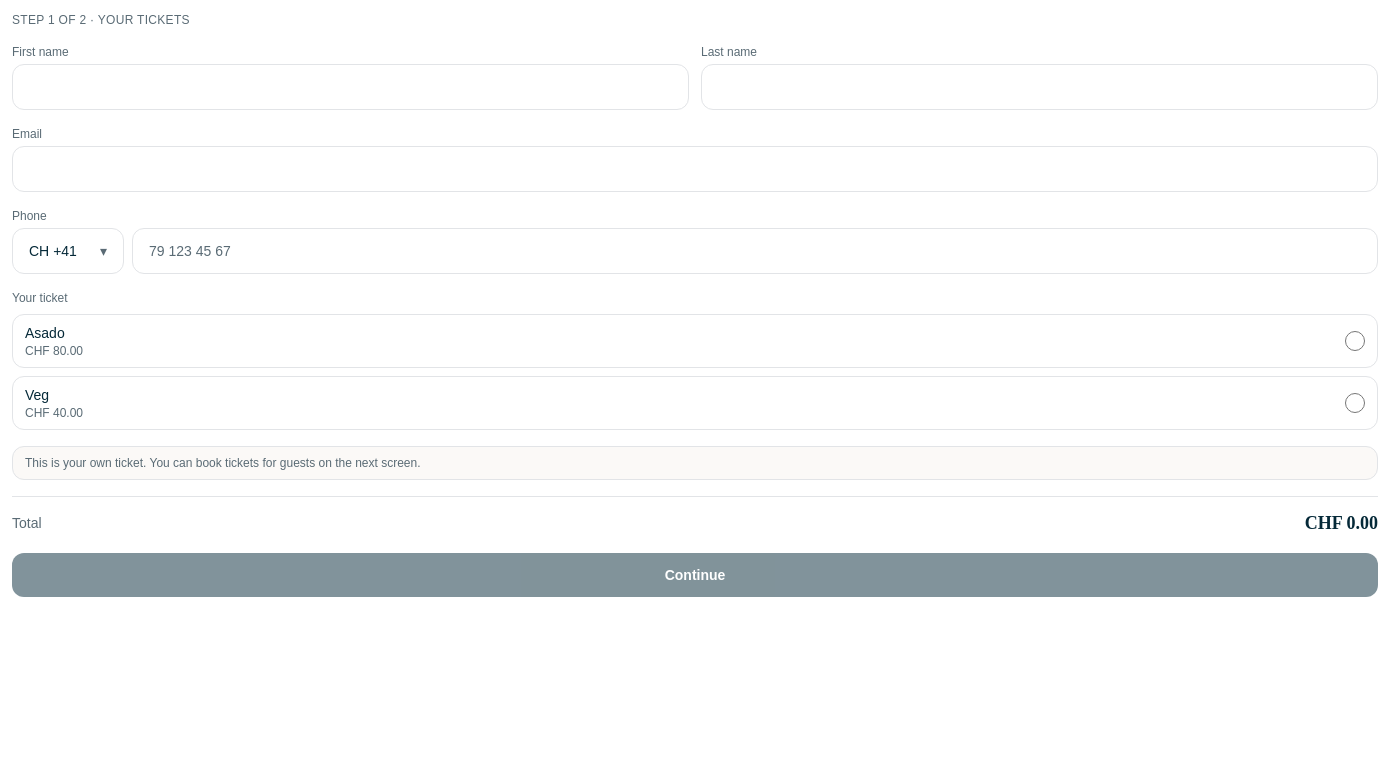
it: step 1 — the buyer's own tickets › replaces the buyer's ticket when they pick a second type, rather than adding it
Click the radio button labelled "Asado CHF 80.00": click(1355, 341) top-left (1345, 331), bottom-right (1365, 351)
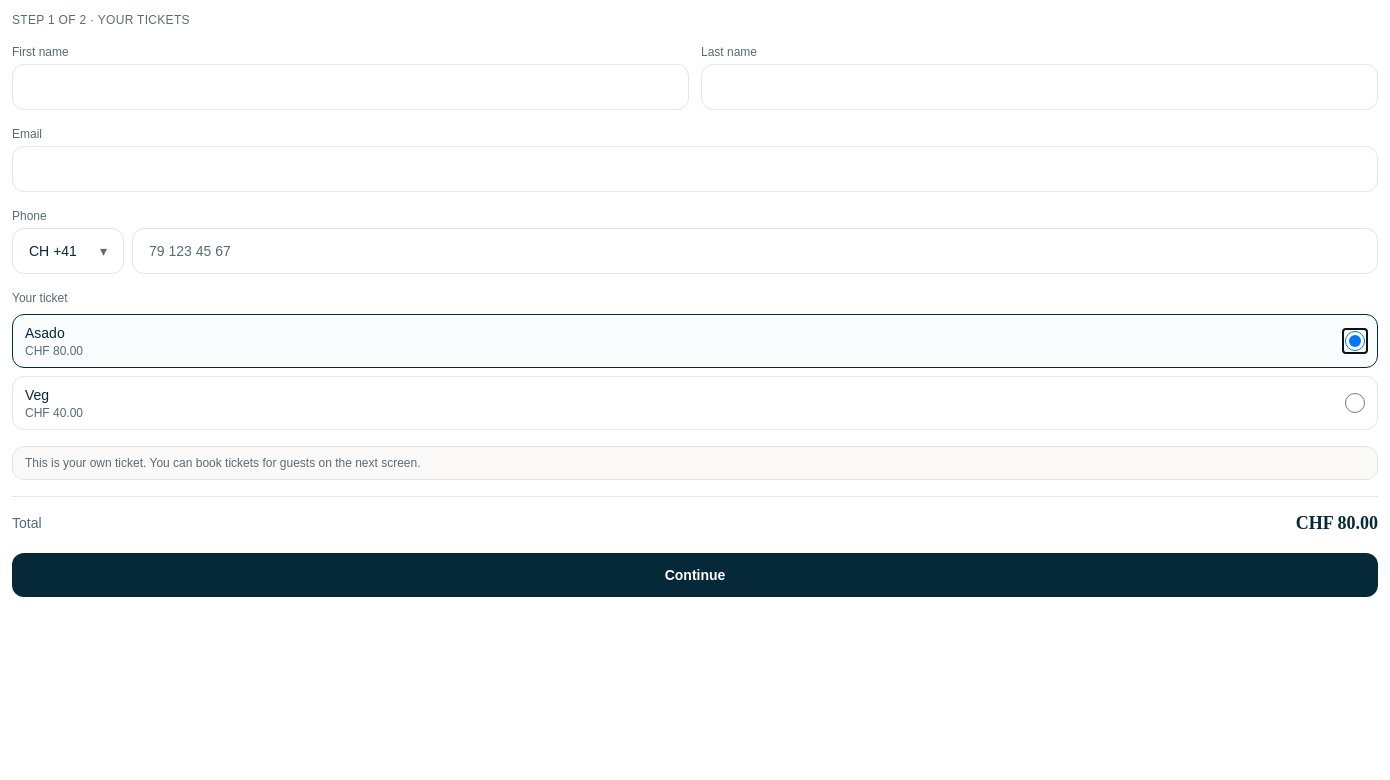
Click the radio button labelled "Veg CHF 40.00": click(1355, 403) top-left (1345, 393), bottom-right (1365, 413)
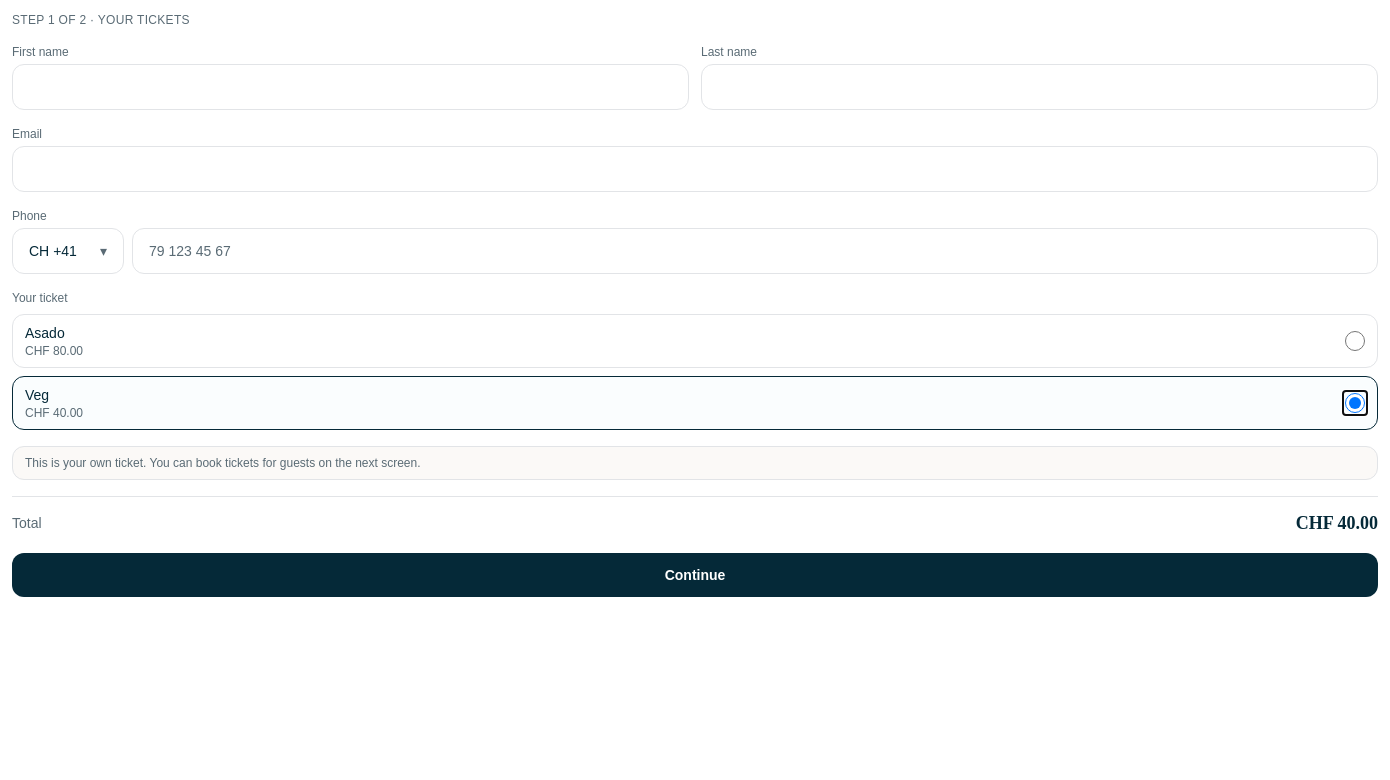
Now the text "CHF 40.00" in the row of "Total" is shown, box top-left (1296, 513), bottom-right (1378, 533)
